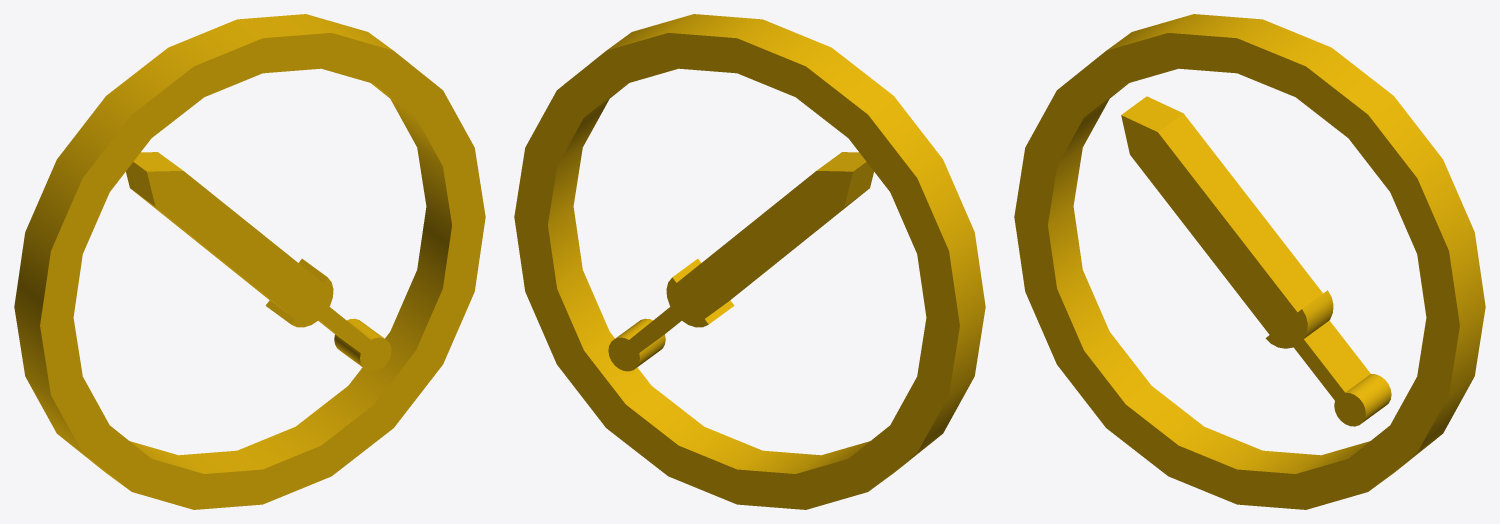
File: Sword.fbx
3 renders of one model, left to right at view 1: azimuth 30°, elevation 25°; view 2: azimuth 150°, elevation 25°; view 3: azimuth 330°, elevation 25°, orthographic.
Visible parts, largest first — view 1: polySurface5; view 2: polySurface5; view 3: polySurface5.
Part boxes in pixels (left/top/right/bottom): polySurface5: left=14, top=14, right=485, bottom=509; polySurface5: left=514, top=14, right=985, bottom=509; polySurface5: left=1014, top=14, right=1485, bottom=509.
Bounding box in the file's own units: 2 × 2 × 0.2.
